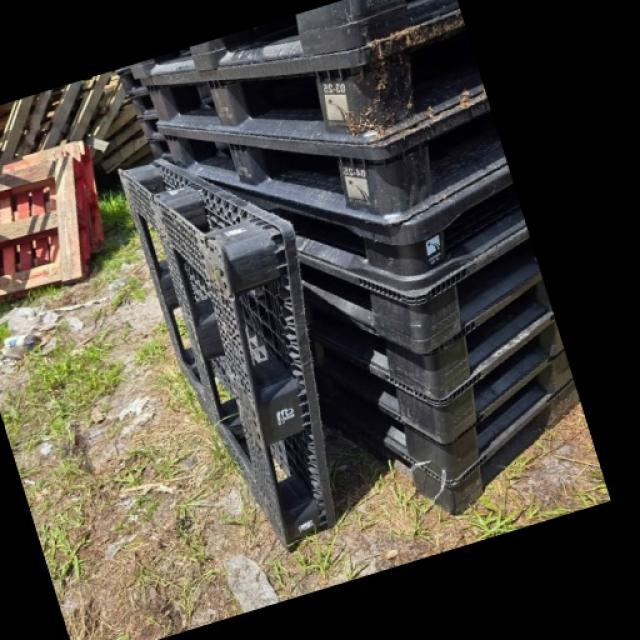non-igps: (115, 155, 348, 556), (152, 83, 530, 245), (139, 0, 510, 152), (189, 152, 550, 306), (305, 372, 595, 524), (283, 260, 565, 416), (304, 336, 582, 494), (290, 213, 566, 369), (303, 299, 580, 451), (128, 0, 470, 89), (0, 137, 109, 311), (0, 69, 158, 186)
